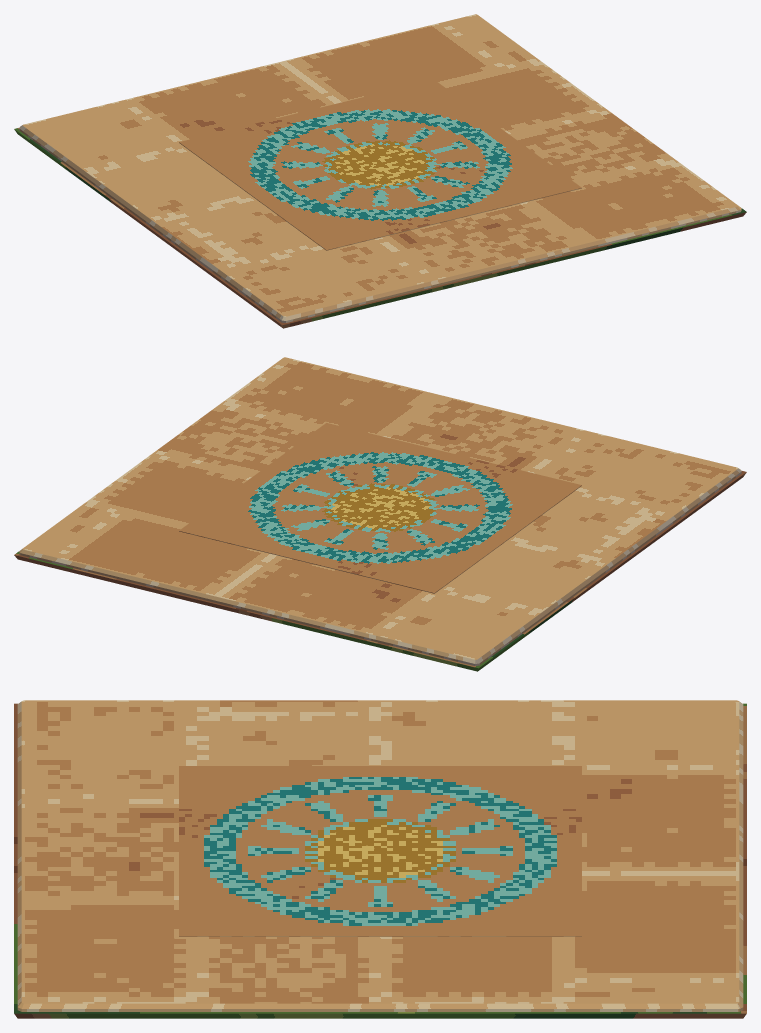
The model's file is ruin.floor__inlay.glb.
3 views of the same model, one above another, from view 1: azimuth 30°, elevation 25°; view 2: azimuth 150°, elevation 25°; view 3: azimuth 270°, elevation 25° (orthographic). The views are drawn at different scales.
Parts seen in each view (by area): view 1: kit_slab, kit_inlay, kit_bed; view 2: kit_slab, kit_inlay, kit_bed; view 3: kit_slab, kit_inlay, kit_bed.
Boxes of the visible parts, box(x1,y1,x2,y2) form: kit_slab: box(19, 14, 741, 322); kit_inlay: box(179, 80, 581, 250); kit_bed: box(14, 127, 746, 328); kit_slab: box(19, 357, 741, 665); kit_inlay: box(179, 423, 581, 593); kit_bed: box(14, 470, 746, 671); kit_slab: box(17, 700, 743, 1011); kit_inlay: box(179, 766, 581, 936); kit_bed: box(14, 703, 746, 1018).
Bounding box in the file's own units: 4 × 0.085 × 4.
Materials: 4 (4 with a texture image).
